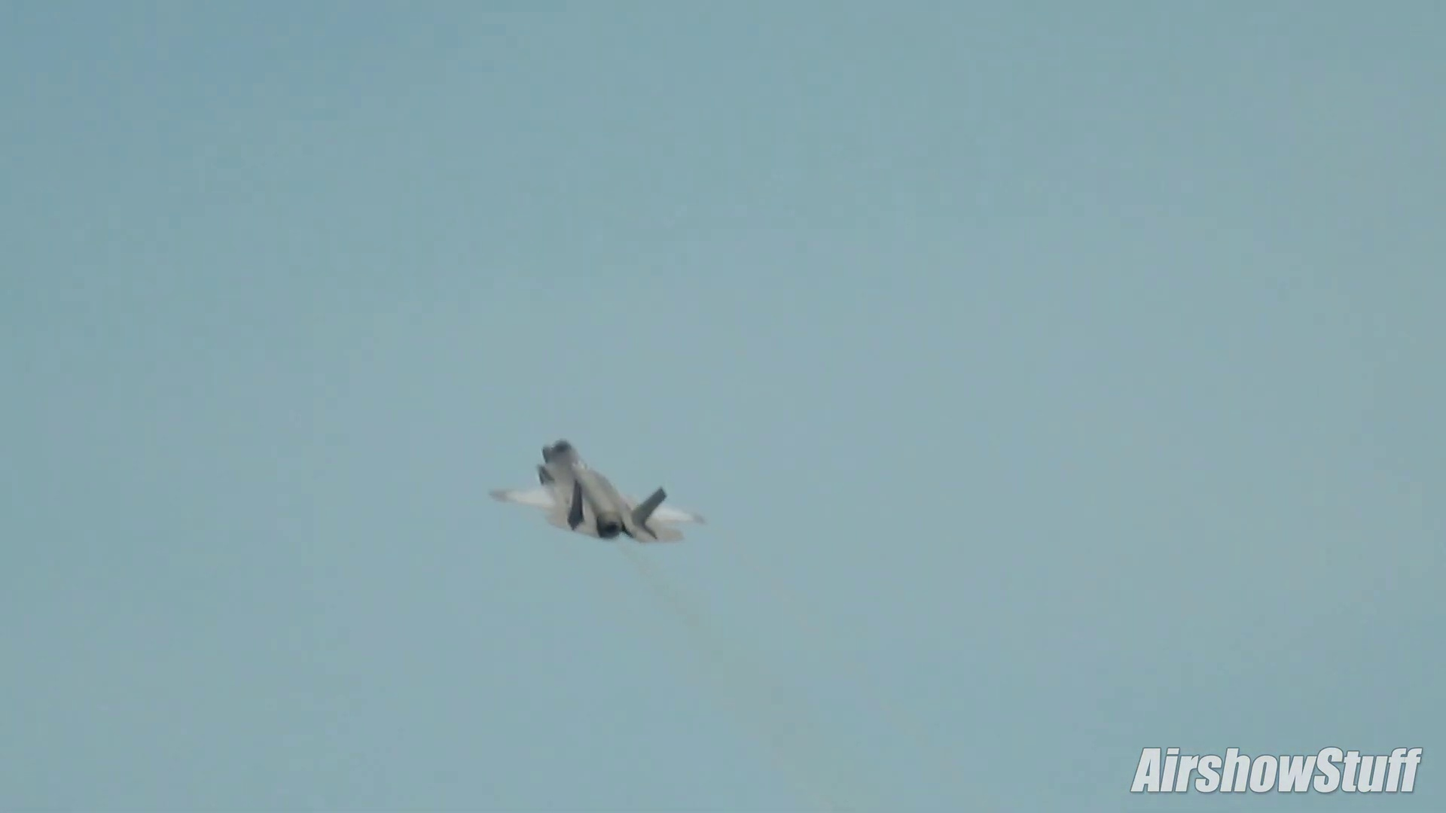F35: (476, 430, 714, 564)
